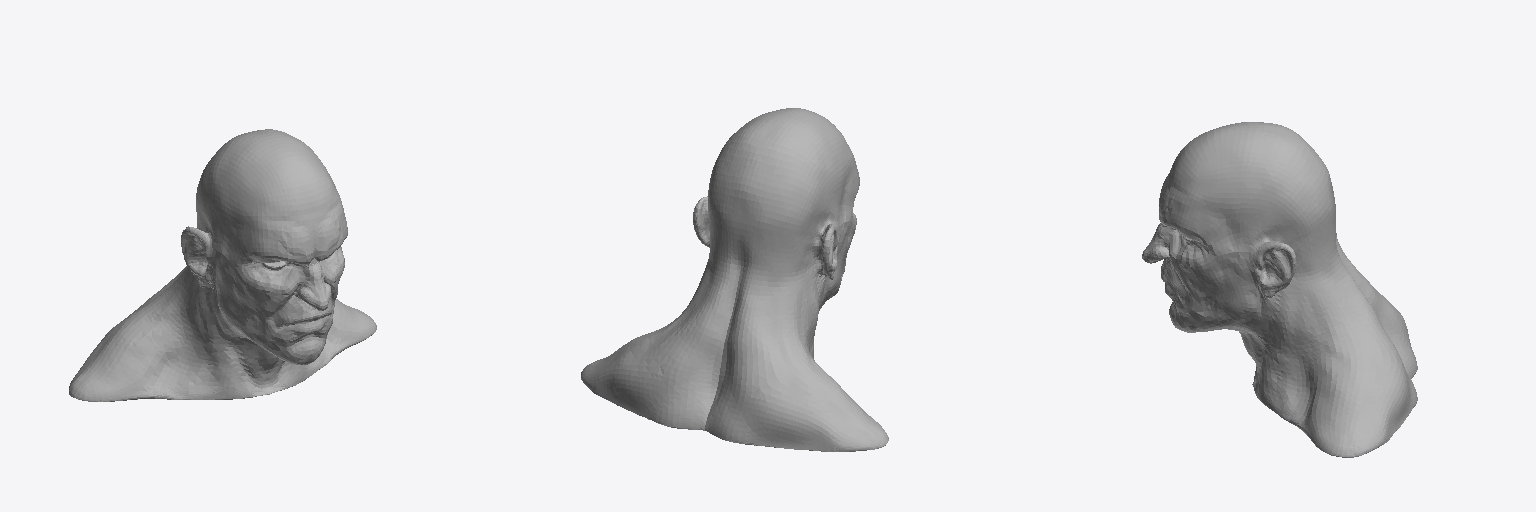
File: human.obj
3 views of the same model, side by side, from view 1: azimuth 30°, elevation 25°; view 2: azimuth 150°, elevation 25°; view 3: azimuth 270°, elevation 25° (orthographic).
Visible parts, largest first — view 1: KRATOS- HIGH; view 2: KRATOS- HIGH; view 3: KRATOS- HIGH.
Part boxes in pixels (bbox=[...]): KRATOS- HIGH: bbox=[69, 129, 376, 401]; KRATOS- HIGH: bbox=[581, 108, 888, 451]; KRATOS- HIGH: bbox=[1142, 122, 1417, 457].
Size of the model in its own units: 3.24 by 2.63 by 2.56.